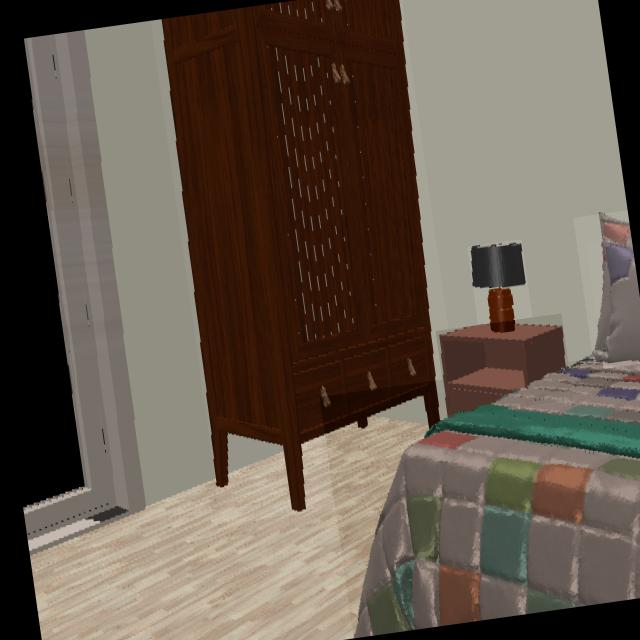bed: (354, 360, 640, 638)
lamp: (473, 243, 527, 334)
nighttable: (440, 324, 567, 416)
pillow: (593, 215, 633, 360), (603, 237, 640, 363)
wardrobe: (160, 0, 443, 513)
